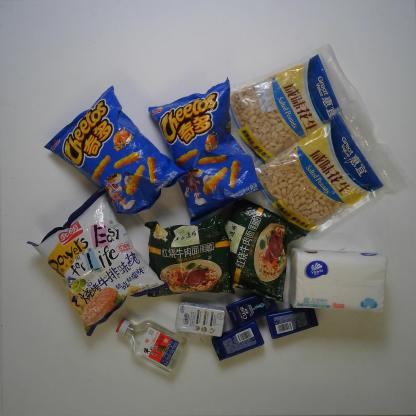Alcohol: (115, 317, 188, 375)
Dried Fruit: (218, 42, 375, 169), (255, 109, 390, 238)
Instant Noodles: (213, 195, 306, 300), (138, 212, 236, 298)
Milk: (168, 304, 226, 342)
Personal Hygiene: (212, 321, 265, 361), (226, 289, 278, 326), (265, 305, 319, 338)
Puffed Food: (26, 187, 160, 333), (42, 86, 184, 215), (148, 77, 265, 225)
Tissue: (288, 249, 386, 309)
